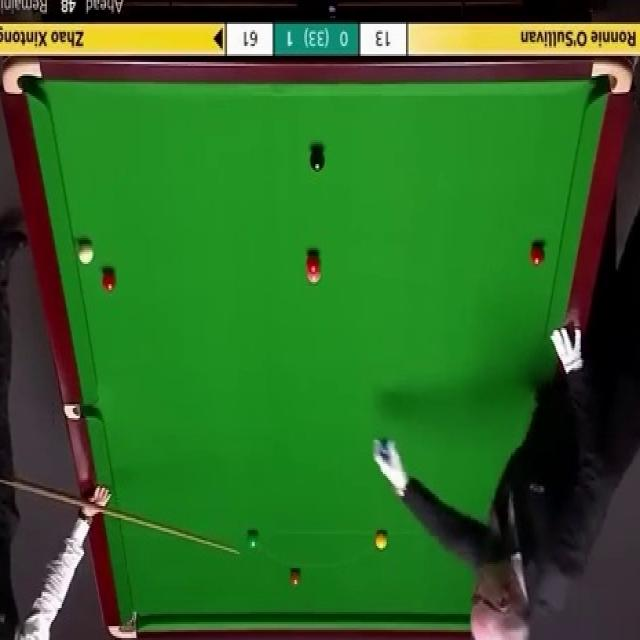black-ball: (308, 150, 326, 172)
brown-ball: (288, 566, 302, 587)
green-ball: (247, 530, 260, 551)
pink-ball: (307, 270, 322, 284)
red-ball: (101, 268, 117, 292), (531, 242, 546, 266), (306, 254, 321, 272)
white-ball: (76, 238, 94, 265)
yellow-ball: (375, 530, 389, 551)
